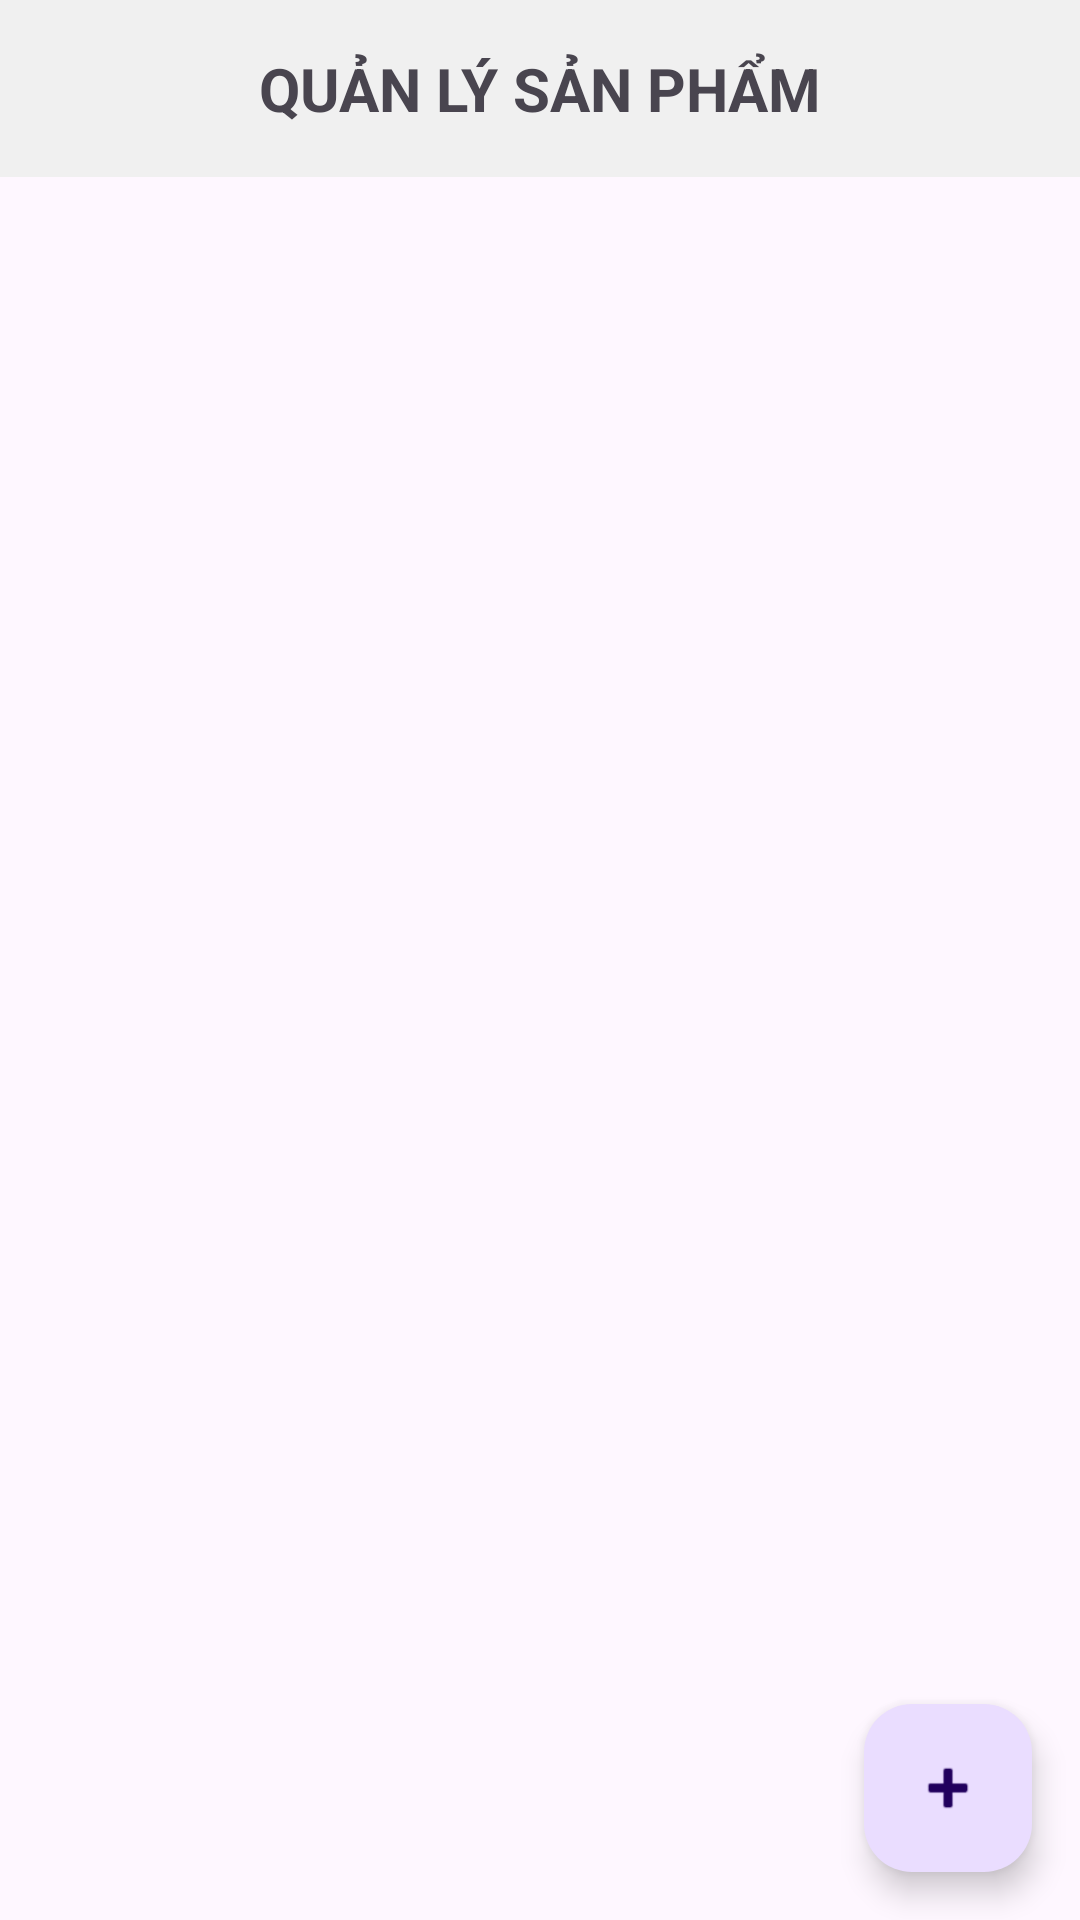

Where icons sit on this 1080w x 1920h app screen, as (x1, y1, x2, y2):
Thêm sản phẩm mới: (864, 1704, 1032, 1872)
